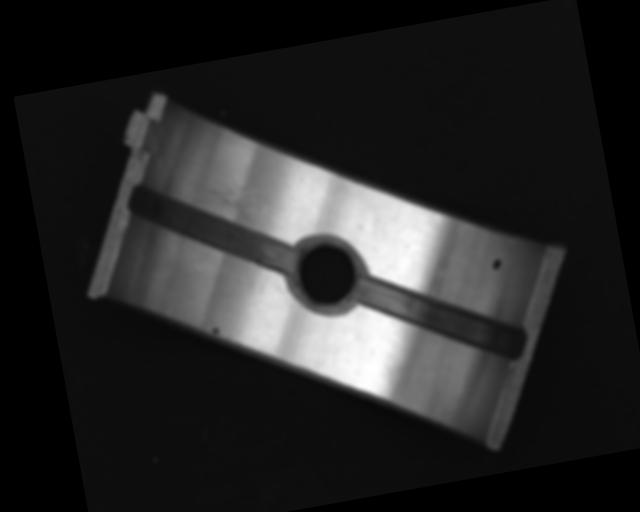blot: (490, 257, 504, 272), (209, 326, 221, 336)
gap: (125, 160, 299, 302), (355, 252, 524, 383)
hole: (285, 232, 368, 320)
scratch: (184, 167, 268, 244)
